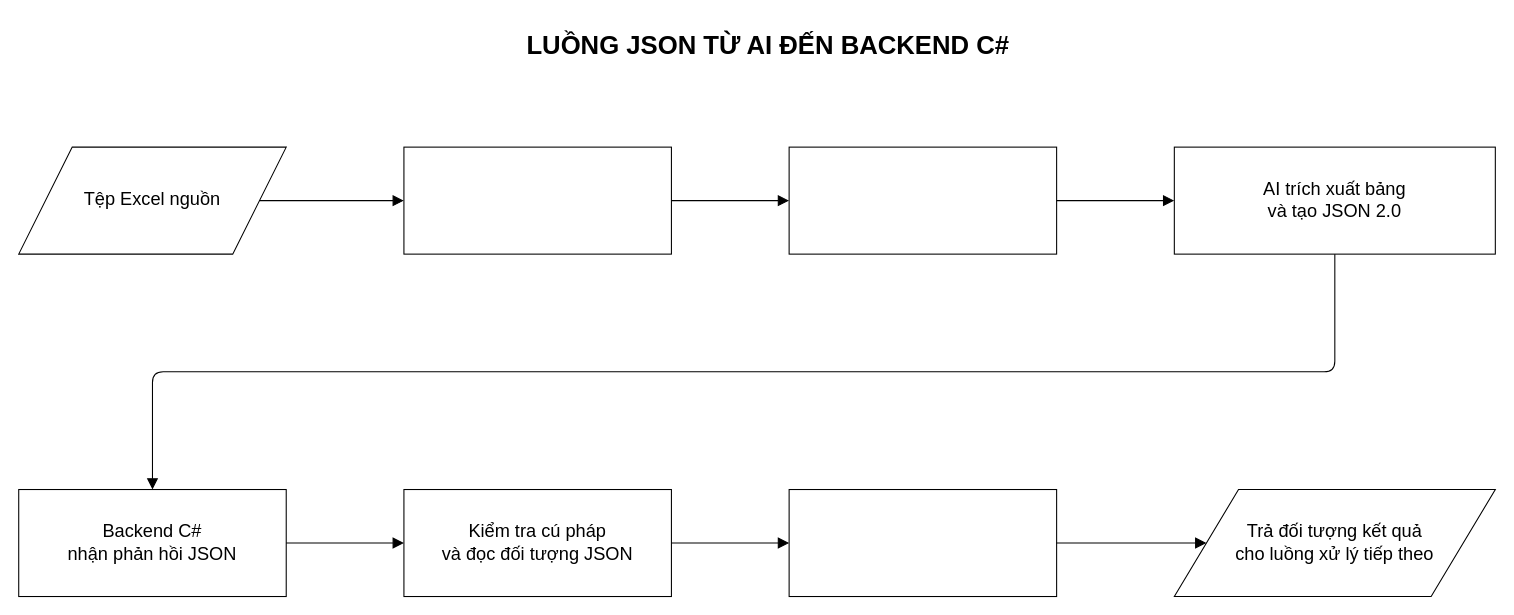
Some shapes in this 1514 by 615 pixel diagram are drawn without their labels. Here are the shapes that lost their labels. From the top down, the centre of each, then its label:
the point at 537,200: Backend C# nhận yêu cầu đọc Excel
the point at 922,200: Gửi workbook tới FastAPI qua HTTP
the point at 922,542: Giữ dữ liệu, cấp cha–con và cảnh báo trong kết quả
